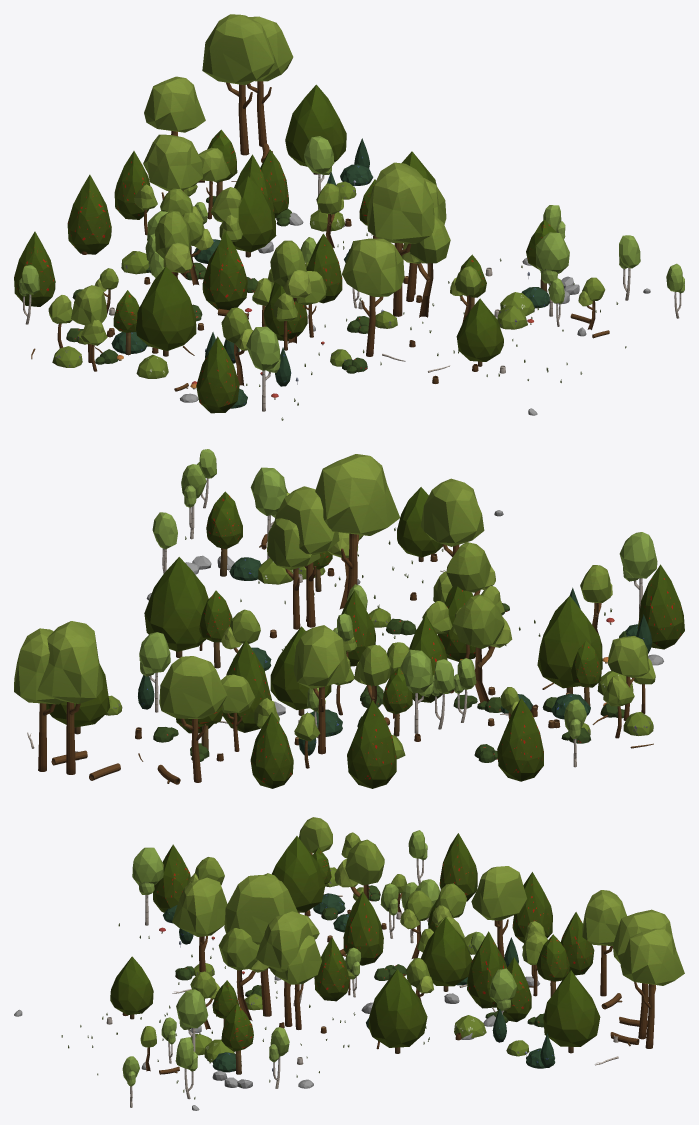
The picture shows the model from 3 angles, top to bottom: view 1: azimuth 30°, elevation 25°; view 2: azimuth 150°, elevation 25°; view 3: azimuth 270°, elevation 25°; orthographic projection. The views are drawn at different scales.
Visible parts, largest first — view 1: Beechtree3 - copy.058, Beechtree3 - copy.026, Hollytree2 - copy.003, Beechtree3 - copy.022, Hollytree2 - copy.006, Beechtree3 - copy.044, Beechtree3 - copy.051, Hollytree3 - copy.026, Hollytree3 - copy.047, Hollytree3 - copy.011, Hollytree2 - copy.037, Hollytree2 - copy.007 (+30 smaller); view 2: Beechtree3 - copy.058, Beechtree3 - copy.026, Hollytree2 - copy.018, Beechtree3 - copy.051, Hollytree2 - copy.003, Beechtree3 - copy.022, Beechtree3 - copy.044, Hollytree3 - copy.026, Beechtree3 - copy.001, Beechtree2 - copy.003, Beechtree3 - copy.009, Hollytree3 - copy.043 (+37 smaller); view 3: Beechtree3 - copy.058, Beechtree3 - copy.009, Hollytree2 - copy.018, Hollytree2 - copy.006, Beechtree3 - copy.022, Beechtree3 - copy.044, Beechtree3 - copy.001, Hollytree2 - copy.003, Hollytree2 - copy.037, Beechtree3 - copy.051, Hollytree3 - copy.047, Beechtree2 - copy.003 (+29 smaller).
Boxes of the visible parts, box(x1,y1,x2,y2) form: Beechtree3 - copy.058: box(367, 162, 434, 316); Beechtree3 - copy.026: box(202, 14, 274, 155); Hollytree2 - copy.003: box(136, 266, 196, 356); Beechtree3 - copy.022: box(342, 238, 404, 356); Hollytree2 - copy.006: box(285, 84, 346, 174); Beechtree3 - copy.044: box(143, 134, 202, 199); Beechtree3 - copy.051: box(144, 76, 205, 136); Hollytree3 - copy.026: box(67, 174, 111, 254); Hollytree3 - copy.047: box(202, 231, 247, 310); Hollytree3 - copy.011: box(196, 336, 239, 413); Hollytree2 - copy.037: box(232, 176, 276, 257); Hollytree2 - copy.007: box(456, 298, 503, 366); Beechtree3 - copy.058: box(315, 454, 400, 601); Beechtree3 - copy.026: box(37, 621, 102, 774); Hollytree2 - copy.018: box(144, 557, 208, 657); Beechtree3 - copy.051: box(159, 656, 227, 782); Hollytree2 - copy.003: box(537, 596, 602, 693); Beechtree3 - copy.022: box(420, 478, 484, 556); Beechtree3 - copy.044: box(293, 625, 349, 754); Hollytree3 - copy.026: box(347, 700, 396, 788); Beechtree3 - copy.001: box(275, 486, 339, 627); Beechtree2 - copy.003: box(453, 594, 512, 703); Beechtree3 - copy.009: box(14, 628, 64, 771); Hollytree3 - copy.043: box(497, 698, 543, 781); Beechtree3 - copy.058: box(224, 875, 297, 1016); Beechtree3 - copy.009: box(620, 928, 684, 1048); Hollytree2 - copy.018: box(368, 969, 427, 1053); Hollytree2 - copy.006: box(543, 970, 600, 1053); Beechtree3 - copy.022: box(172, 877, 227, 971); Beechtree3 - copy.044: box(471, 866, 526, 958); Beechtree3 - copy.001: box(256, 911, 312, 1026); Hollytree2 - copy.003: box(272, 836, 325, 913); Hollytree2 - copy.037: box(420, 917, 472, 991); Beechtree3 - copy.051: box(582, 890, 626, 996); Hollytree3 - copy.047: box(343, 892, 383, 965); Beechtree2 - copy.003: box(334, 839, 384, 899).
Size of the model in its own units: 71.77 by 19.38 by 84.6.
34 materials, 34 textured.
